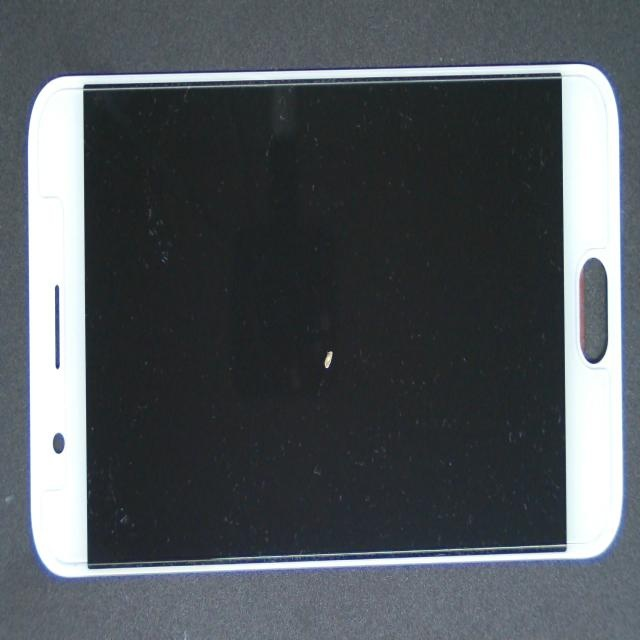stain: (181, 153, 492, 503)
